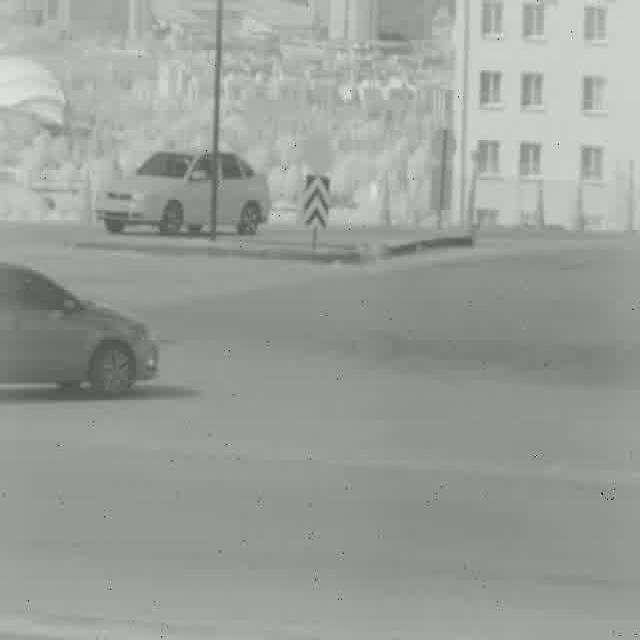Car: (0, 261, 160, 397), (96, 151, 270, 234)
